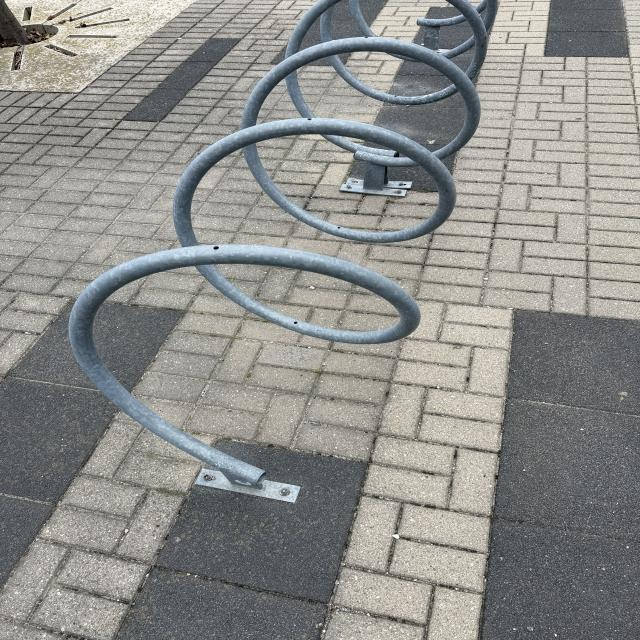Bicycle Rack: (72, 4, 507, 504)
